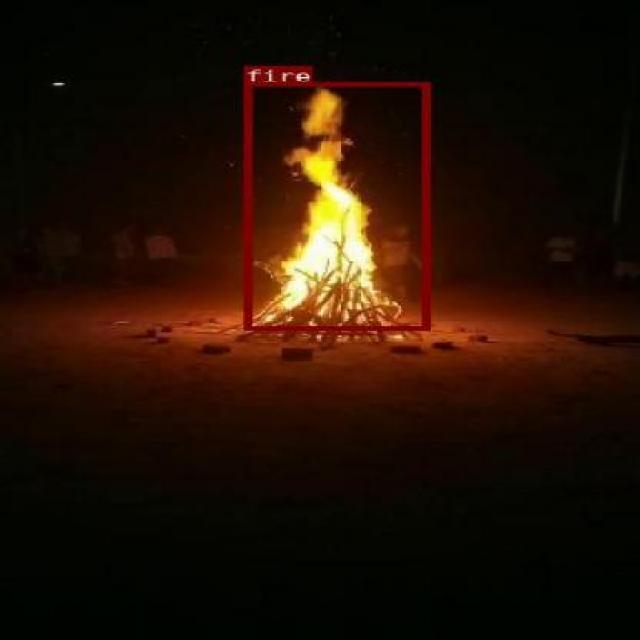Fire: (243, 81, 428, 330)
